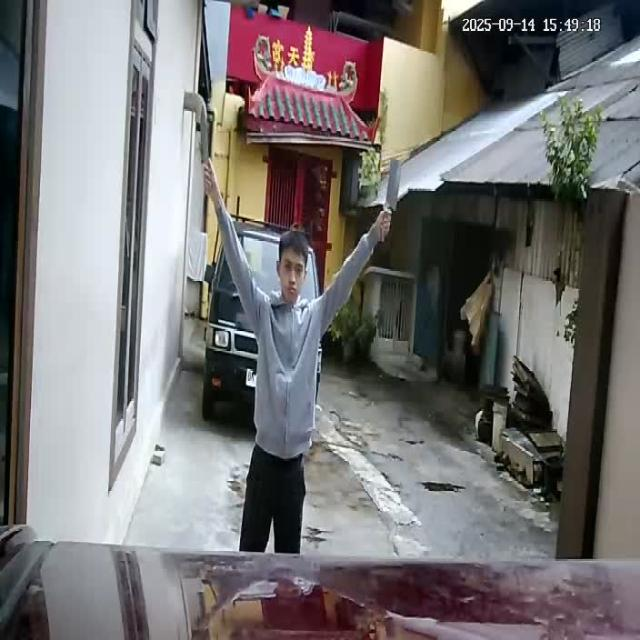senjata_tajam: (382, 157, 406, 210), (198, 104, 210, 164)
